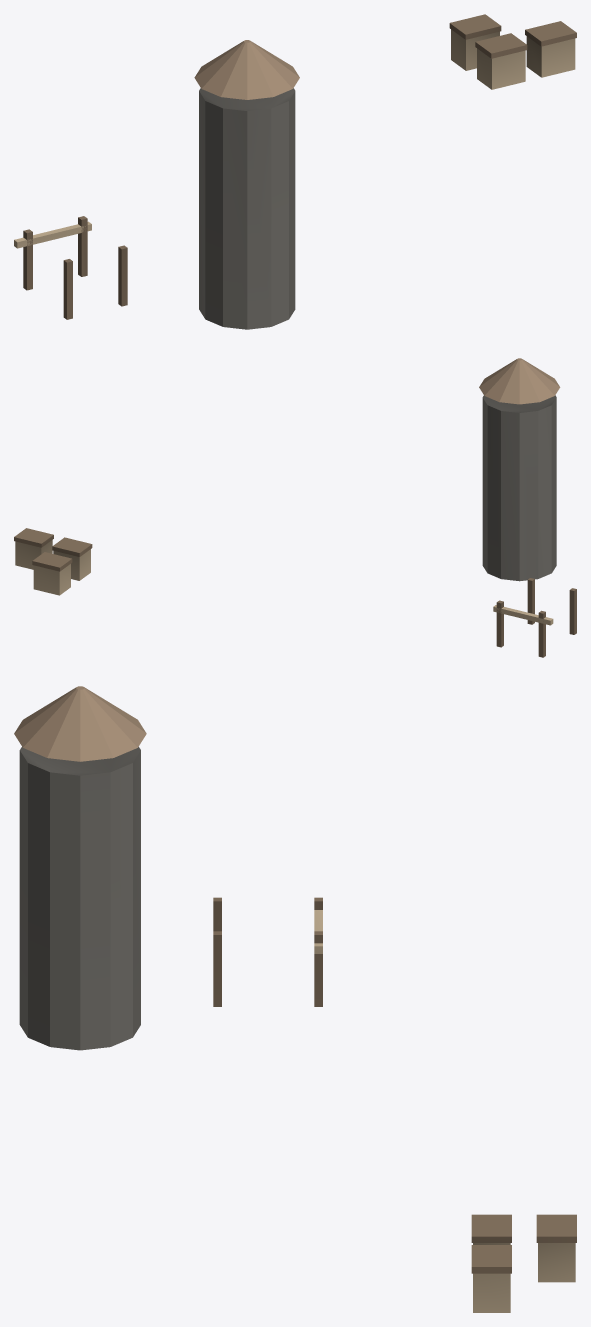
The model's file is barn_l3.glb.
The picture shows the model from 3 angles, top to bottom: view 1: azimuth 30°, elevation 25°; view 2: azimuth 150°, elevation 25°; view 3: azimuth 270°, elevation 25°; orthographic projection. The views are drawn at different scales.
Visible parts, largest first — view 1: silo; view 2: silo; view 3: silo.
Part boxes in pixels (x1=…): silo: x1=14, y1=14, x2=576, y2=329; silo: x1=14, y1=358, x2=576, y2=657; silo: x1=14, y1=686, x2=576, y2=1312.
Bounding box in the file's own units: 6.25 × 2.75 × 3.9.
